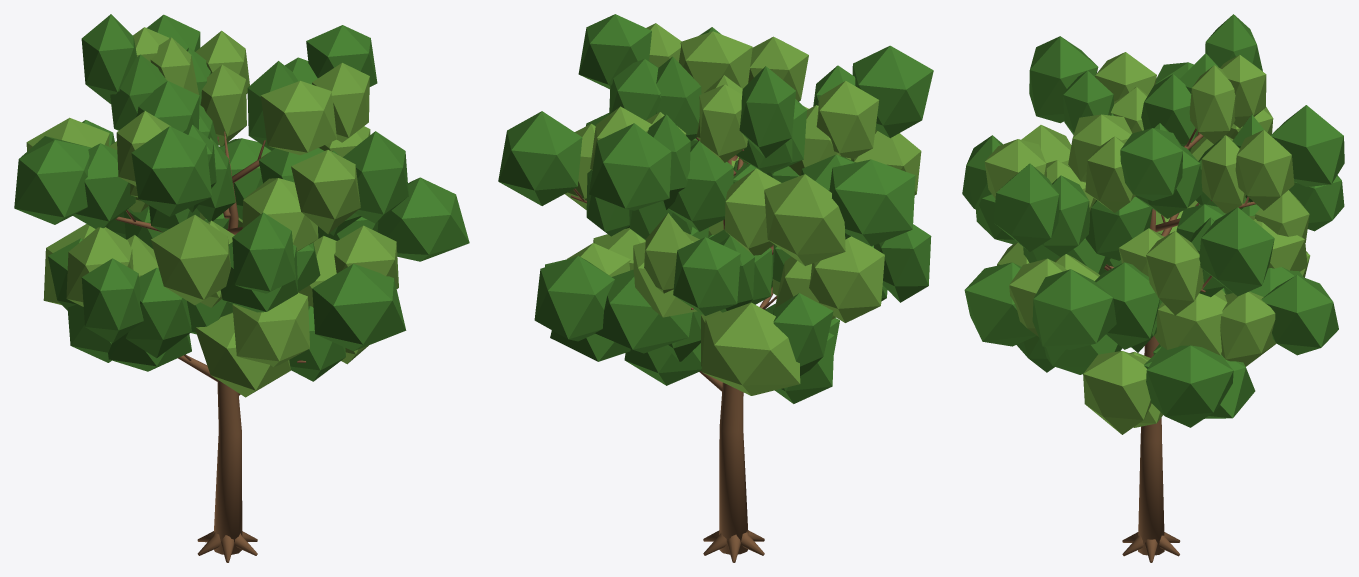
File: tree-linden.glb
3 renders of one model, left to right at view 1: azimuth 30°, elevation 25°; view 2: azimuth 150°, elevation 25°; view 3: azimuth 270°, elevation 25°, orthographic. The views are drawn at different scales.
Parts seen in each view (by area): view 1: Simplified foliage crown, Simplified foliage crown.001, Root flare; view 2: Simplified foliage crown, Simplified foliage crown.001, Root flare; view 3: Simplified foliage crown, Simplified foliage crown.001, Root flare.
Part boxes in pixels (bbox=[...]): Simplified foliage crown: bbox=[14, 14, 469, 381]; Simplified foliage crown.001: bbox=[26, 27, 398, 397]; Root flare: bbox=[115, 131, 305, 562]; Simplified foliage crown: bbox=[498, 14, 933, 403]; Simplified foliage crown.001: bbox=[565, 23, 921, 395]; Root flare: bbox=[570, 137, 777, 562]; Simplified foliage crown: bbox=[962, 14, 1344, 427]; Simplified foliage crown.001: bbox=[984, 52, 1310, 434]; Root flare: bbox=[1104, 128, 1255, 562].
Bounding box in the file's own units: 7.17 × 9.4 × 6.5.
